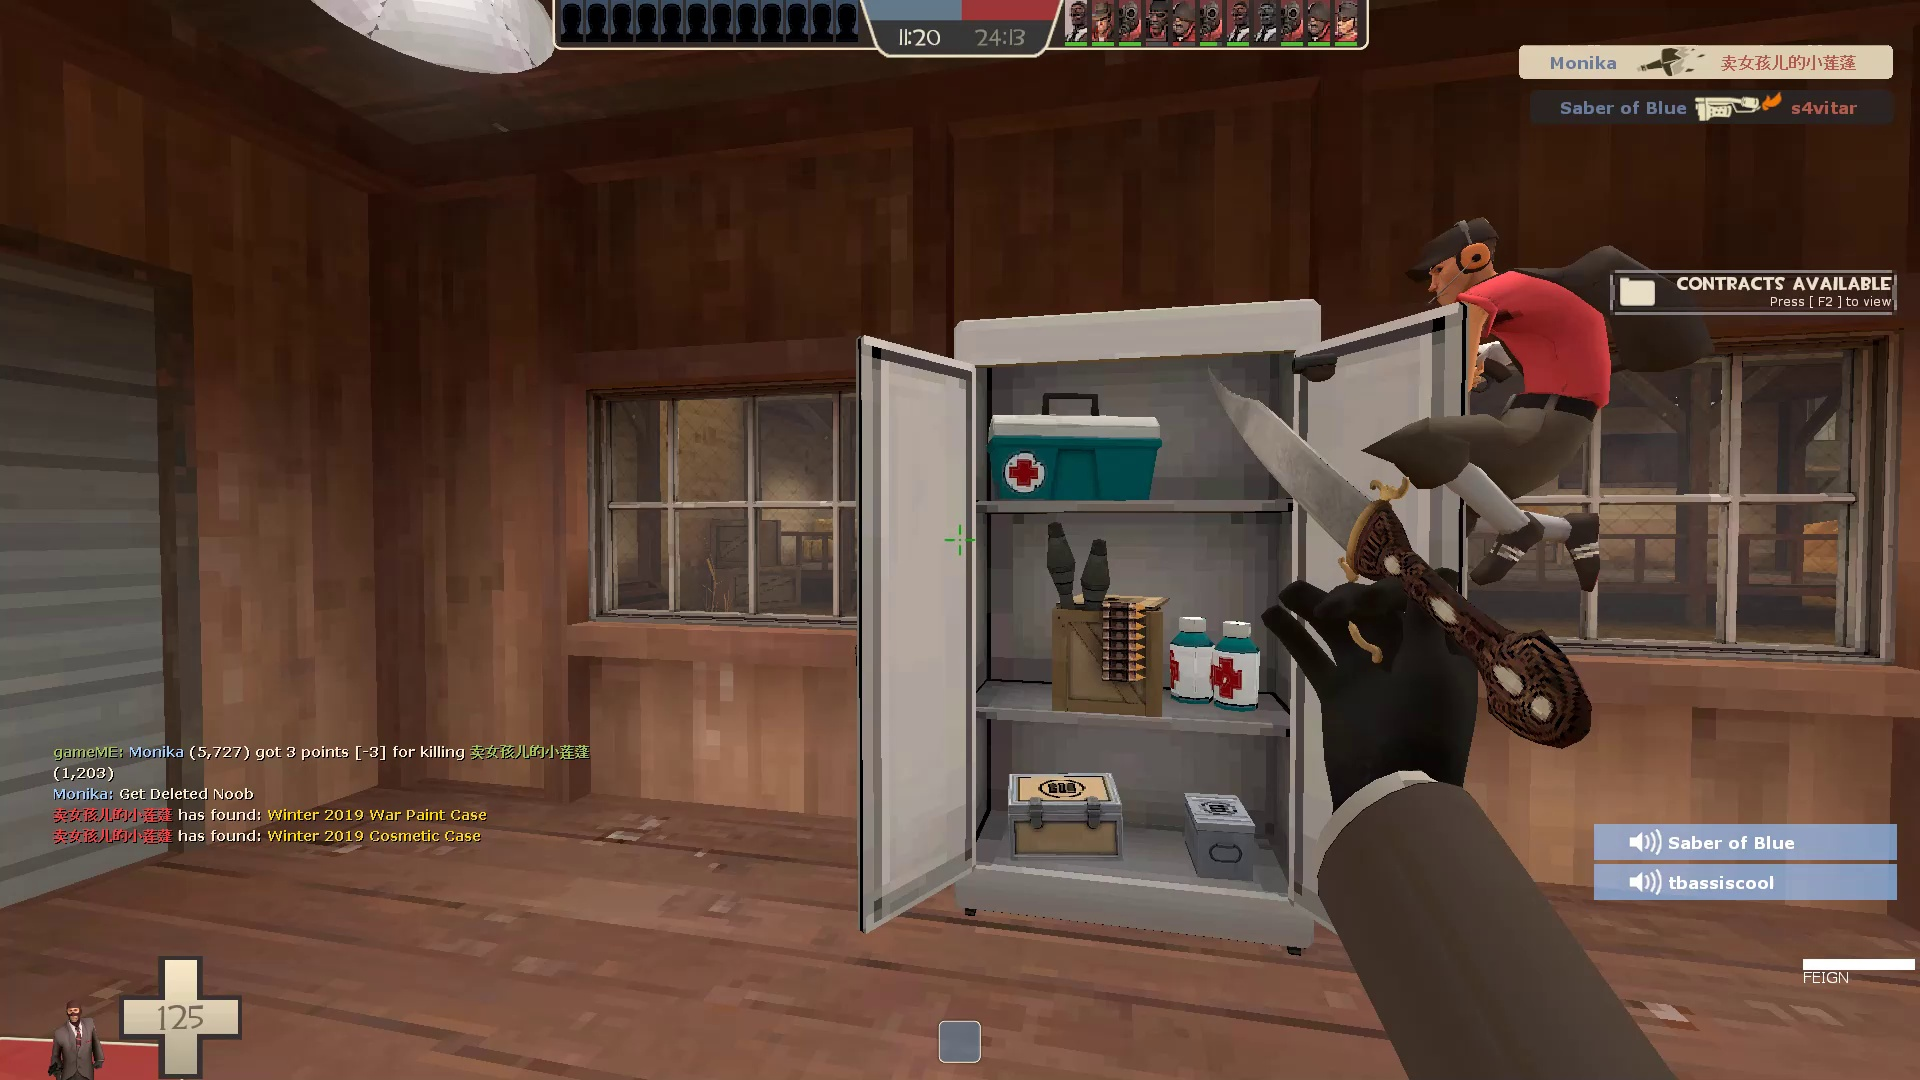red_scout: (1308, 195, 1710, 603)
